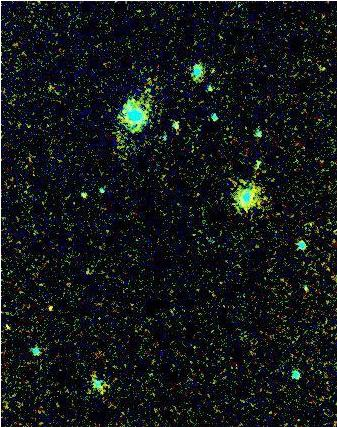star: (38, 293, 68, 323)
